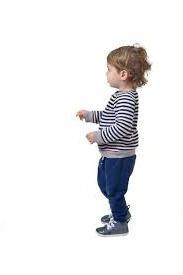Human: (77, 39, 150, 248)
